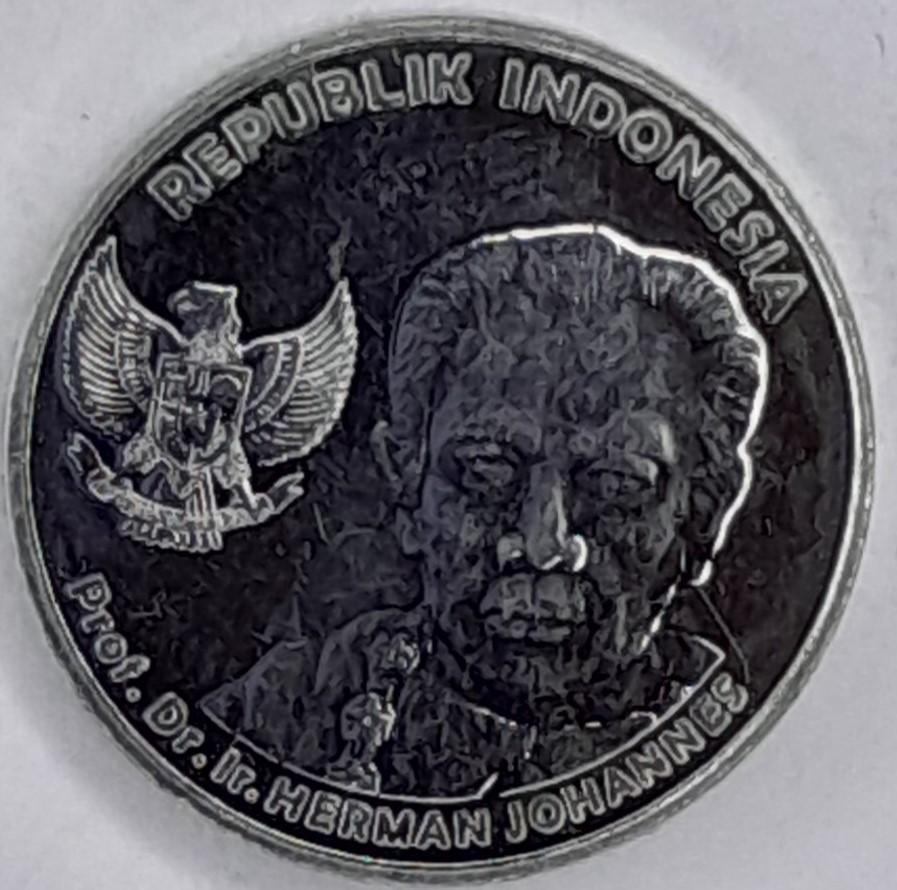coin_100_e2016: (1, 9, 880, 884)
